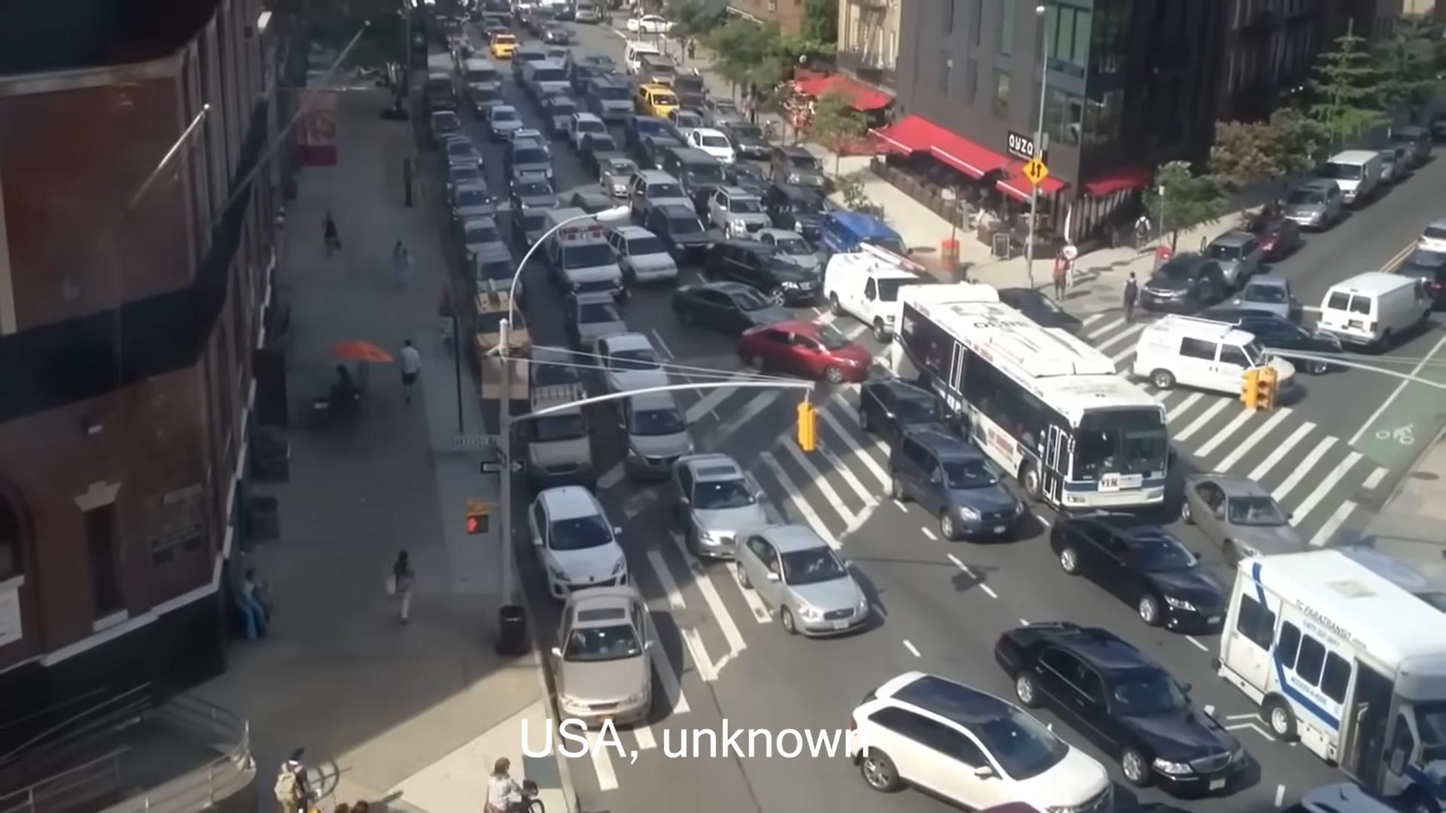AMBULANCE: (547, 212, 626, 293)
